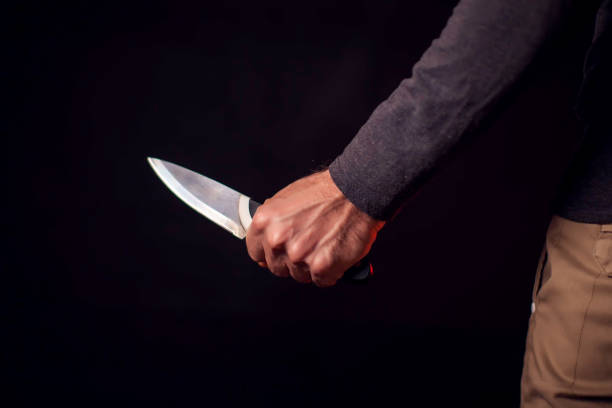knife: (144, 154, 377, 289)
